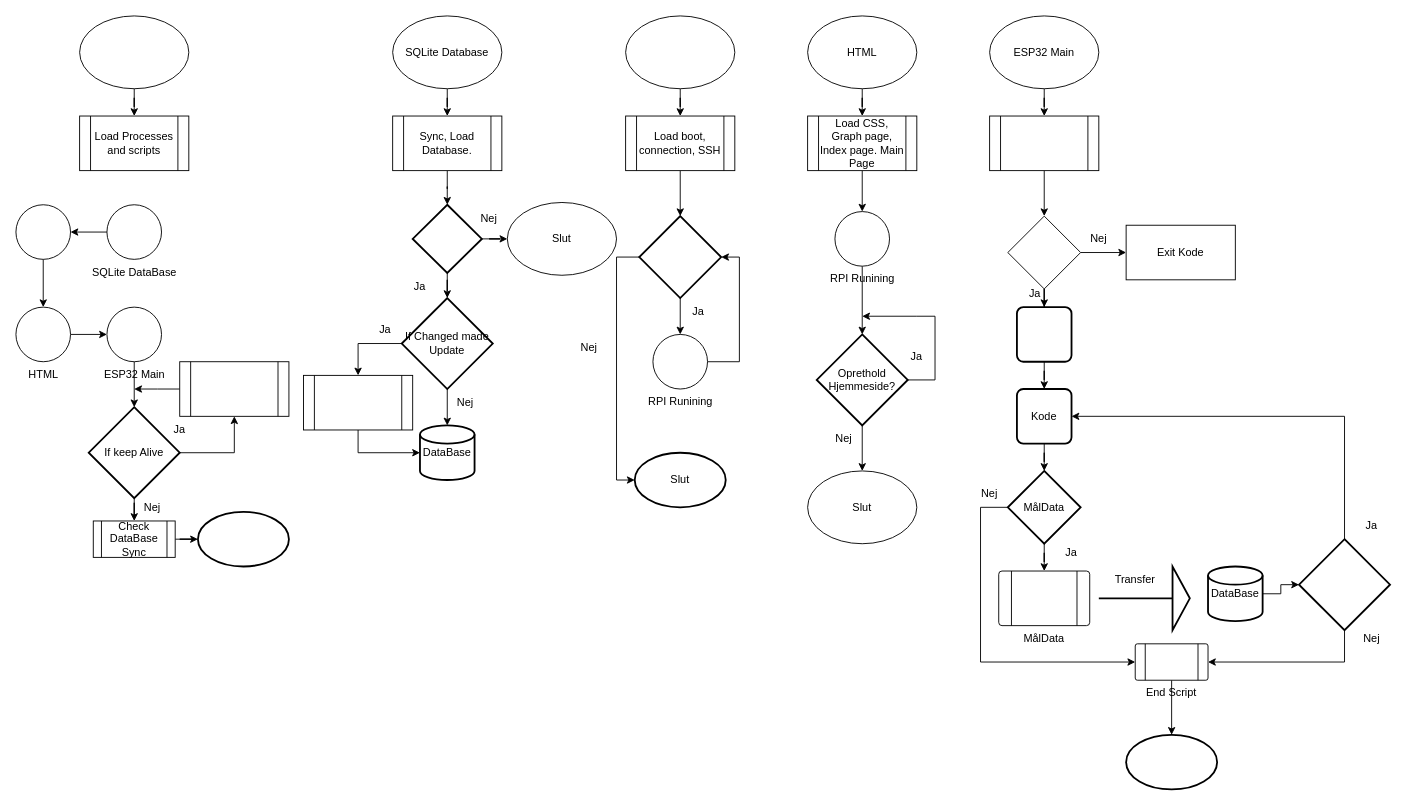
The diagram is 1415 pixels wide and 806 high, and some of its shapes have lost their labels. The shapes that lost their labels are listed below. From the top down, each one's centre as x and y in pixels, then its label:
At point (134, 52): "Start".
At point (680, 52): "RPI RaspBerryPi".
At point (1044, 143): "Load Main, System, Libary. kodes".
At point (43, 231): "RPI".
At point (446, 238): "If Server runing".
At point (680, 256): "Opret forbindelse OR Keep Alive".
At point (1044, 252): "Loop True".
At point (1044, 334): "Try".
At point (234, 388): "Sleep 0.2 sec + Except".
At point (358, 402): "Sync Changed til DataBase".
At point (243, 539): "End ShutDown".
At point (1344, 584): "If measure again".
At point (1171, 761): "ShutDown".
